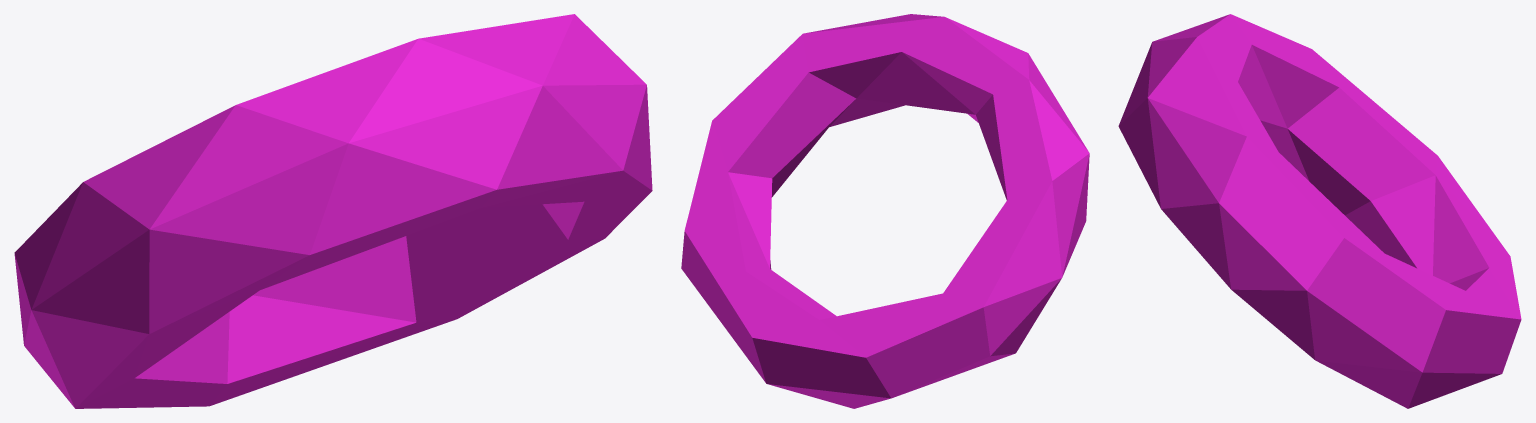
The model's file is donut-low-poly4.glb.
3 views of the same model, side by side, from view 1: azimuth 30°, elevation 25°; view 2: azimuth 150°, elevation 25°; view 3: azimuth 270°, elevation 25° (orthographic). The views are drawn at different scales.
Parts seen in each view (by area): view 1: Torus; view 2: Torus; view 3: Torus.
Boxes of the visible parts, left/top/right/bottom form: Torus: left=14, top=14, right=652, bottom=408; Torus: left=681, top=14, right=1089, bottom=408; Torus: left=1118, top=14, right=1521, bottom=408.
Size of the model in its own units: 2.5 by 1.99 by 2.11.
